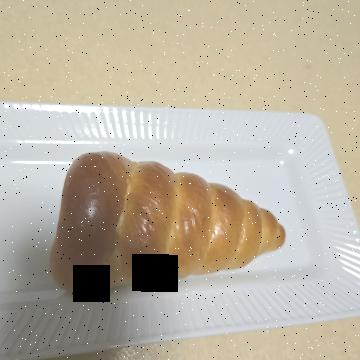cream horn: (125, 56, 313, 318)
